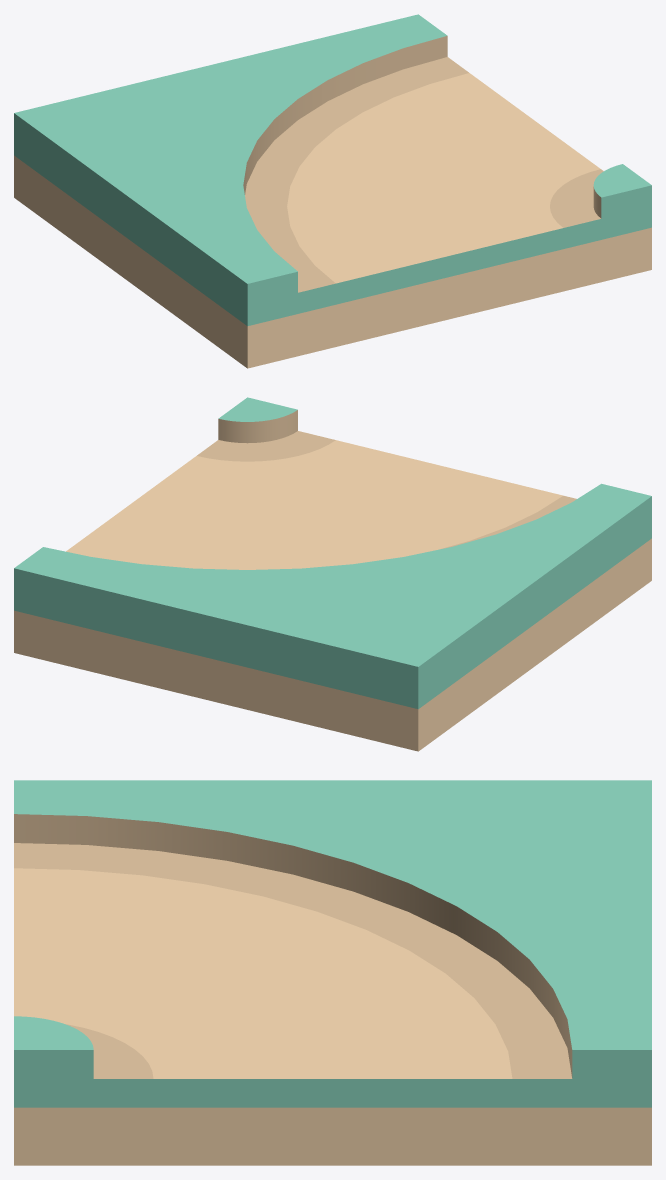
File: tile_cornerRoundRight.glb
3 views of the same model, one above another, from view 1: azimuth 30°, elevation 25°; view 2: azimuth 150°, elevation 25°; view 3: azimuth 270°, elevation 25° (orthographic). The views are drawn at different scales.
Parts seen in each view (by area): view 1: tile_cornerRoundRight; view 2: tile_cornerRoundRight; view 3: tile_cornerRoundRight.
Boxes of the visible parts, bbox=[...] form: tile_cornerRoundRight: bbox=[14, 14, 651, 368]; tile_cornerRoundRight: bbox=[14, 397, 651, 751]; tile_cornerRoundRight: bbox=[14, 780, 651, 1165].
Bounding box in the file's own units: 1 × 0.2 × 1.
